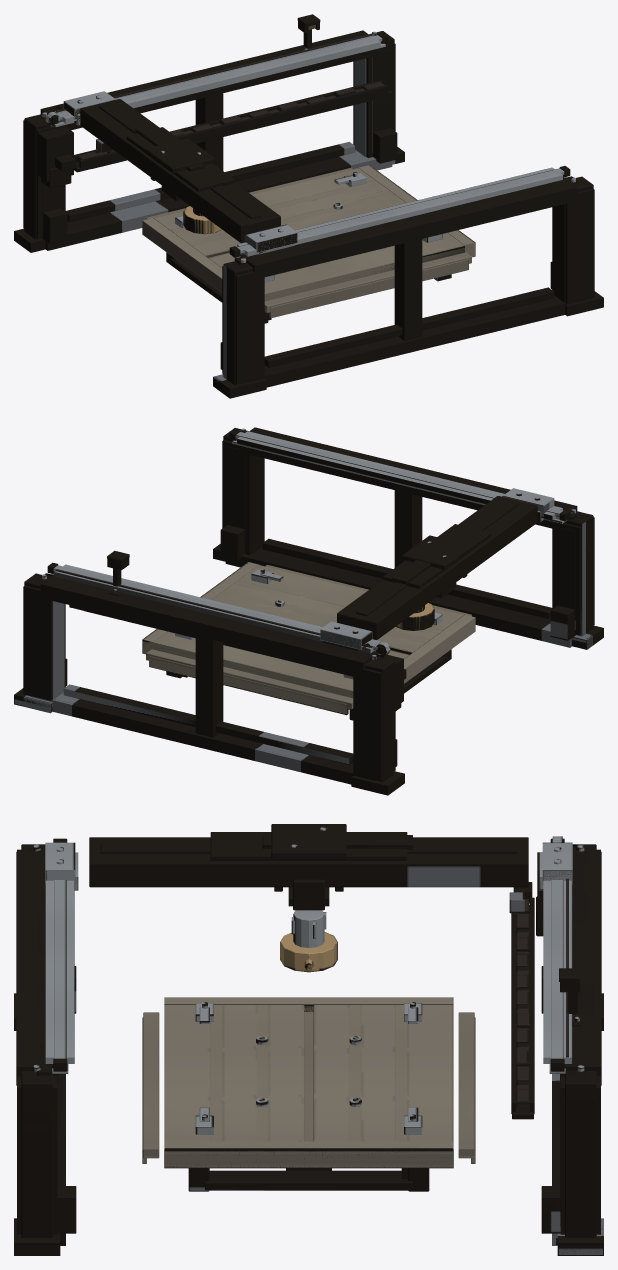
Rendered from place_works_fabricator.glb.
The picture shows the model from 3 angles, top to bottom: view 1: azimuth 30°, elevation 25°; view 2: azimuth 150°, elevation 25°; view 3: azimuth 270°, elevation 25°; orthographic projection. The views are drawn at different scales.
Parts seen in each view (by area): view 1: LOD0_fabricator, LOD1_fabricator, LOD0_Gantry, LOD1_Gantry; view 2: LOD1_fabricator, LOD0_fabricator, LOD0_Gantry, LOD1_Gantry, LOD0_Lamp; view 3: LOD0_fabricator, LOD1_fabricator, LOD0_Gantry, LOD1_Gantry, LOD0_Lamp.
Part boxes in pixels (x1,y1,x2,y2): LOD0_fabricator: (14,31,603,396); LOD1_fabricator: (14,30,603,398); LOD0_Gantry: (64,91,297,254); LOD1_Gantry: (63,91,297,254); LOD1_fabricator: (14,427,603,795); LOD0_fabricator: (14,428,602,794); LOD0_Gantry: (320,488,549,651); LOD1_Gantry: (320,488,554,651); LOD0_Lamp: (107,550,129,595); LOD0_fabricator: (15,836,602,1254); LOD1_fabricator: (14,836,603,1255); LOD0_Gantry: (46,824,571,972); LOD1_Gantry: (45,842,572,970); LOD0_Lamp: (559,968,581,1026).
Size of the model in its own units: 2.04 by 0.846 by 2.04.
Materials: 2 (2 with a texture image).
